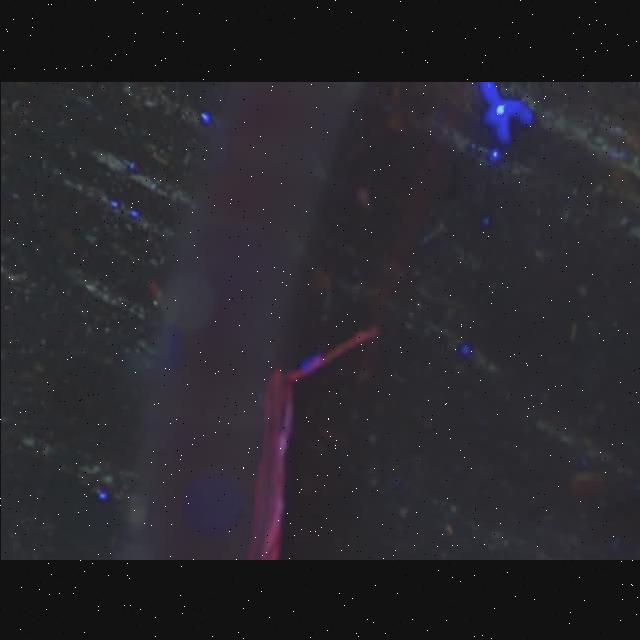Fibre: (282, 325, 382, 381)
